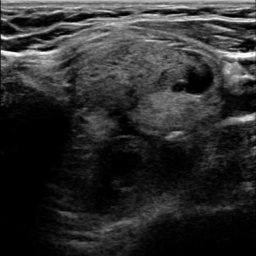mass: (61, 38, 219, 218)
